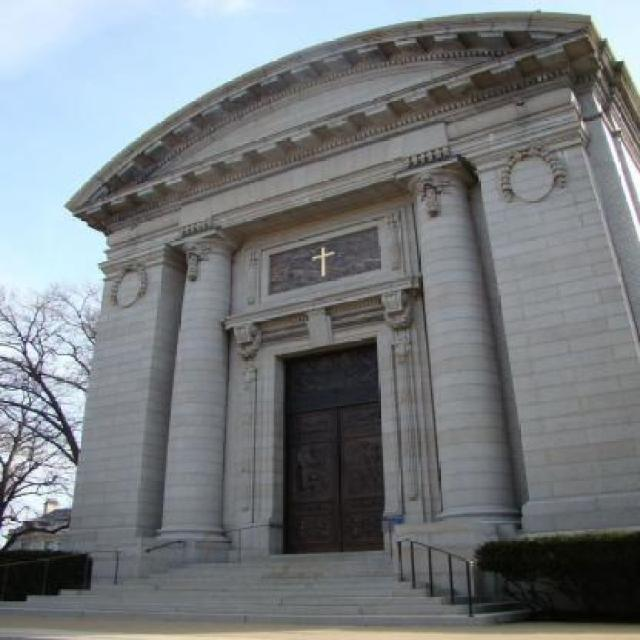stair: (0, 550, 546, 628)
